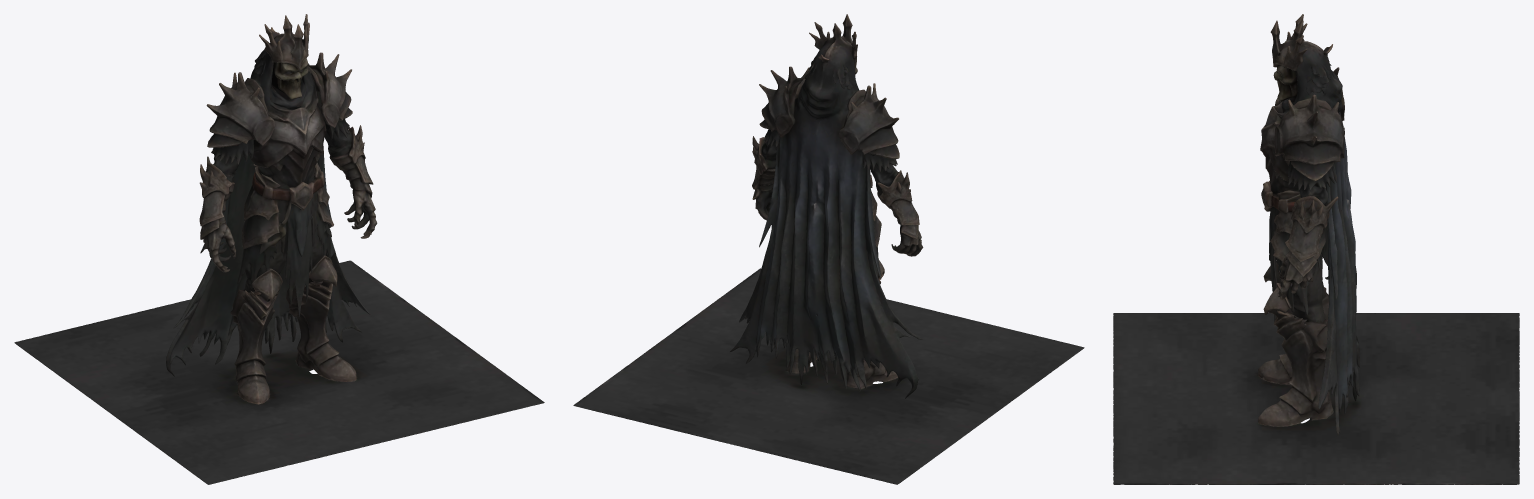
Rendered from sample.glb.
3 renders of one model, left to right at view 1: azimuth 30°, elevation 25°; view 2: azimuth 150°, elevation 25°; view 3: azimuth 270°, elevation 25°, orthographic. The views are drawn at different scales.
Parts seen in each view (by area): view 1: world; view 2: world; view 3: world.
Part boxes in pixels (<box>): world: <box>14,14,544,484</box>; world: <box>573,14,1084,484</box>; world: <box>1113,14,1519,484</box>.
Bounding box in the file's own units: 0.9731 × 1 × 0.9729.
Materials: 1 (1 with a texture image).
